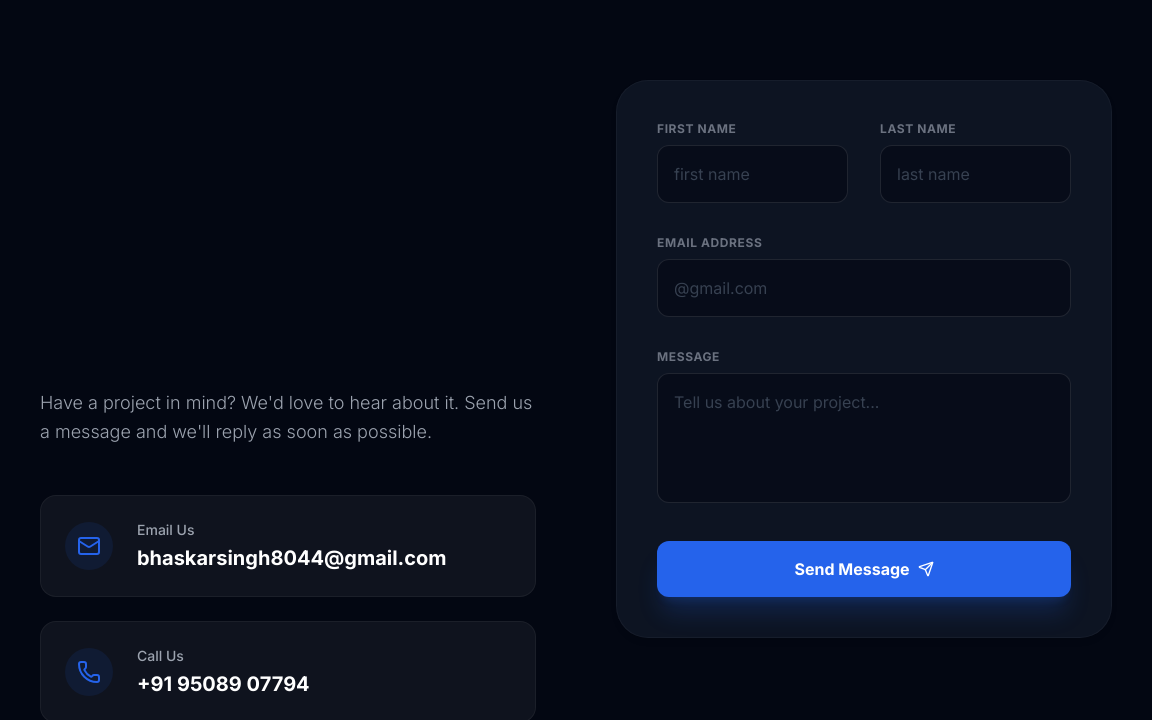
Contact Component › handles API error
Type "John" into the field with placeholder "first name" at point(752, 174), box [657,145,848,203]
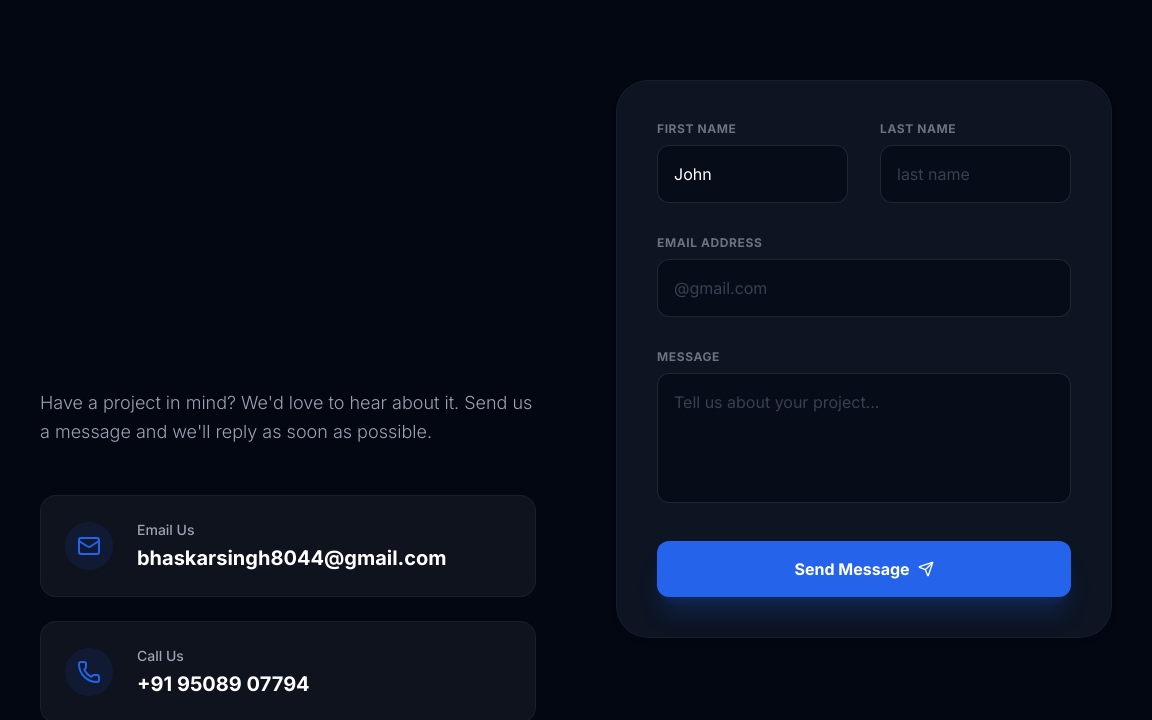
Type "john@example.com" into the field with placeholder "@gmail.com" at point(864, 288), box [657,259,1071,317]
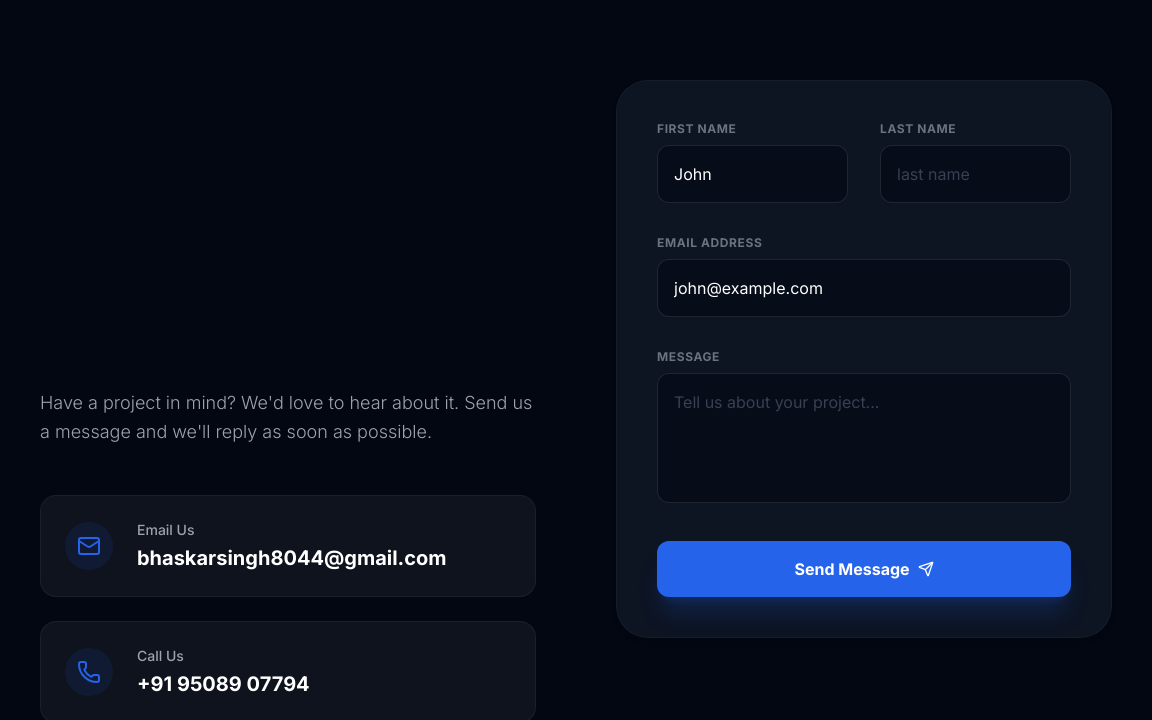
Type "Error test" into the text box with placeholder "Tell us about your project..." at point(864, 438), box [657,373,1071,503]
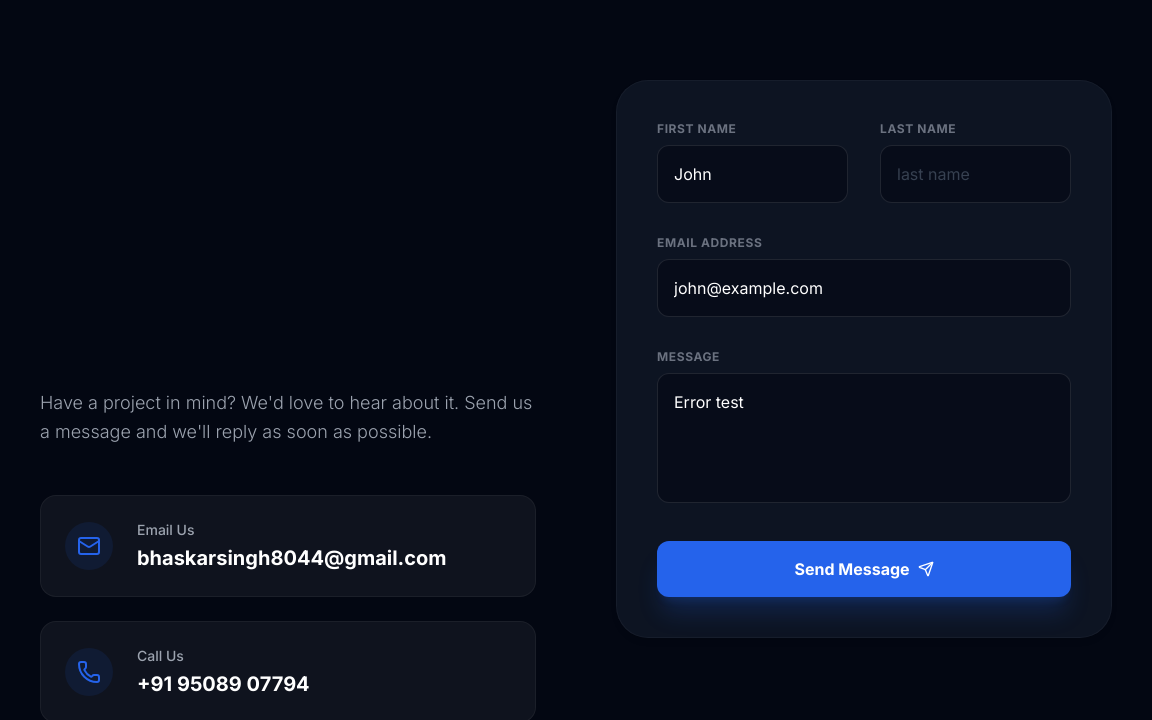
Click the button "Send Message" at point(864, 569), box [657,541,1071,597]
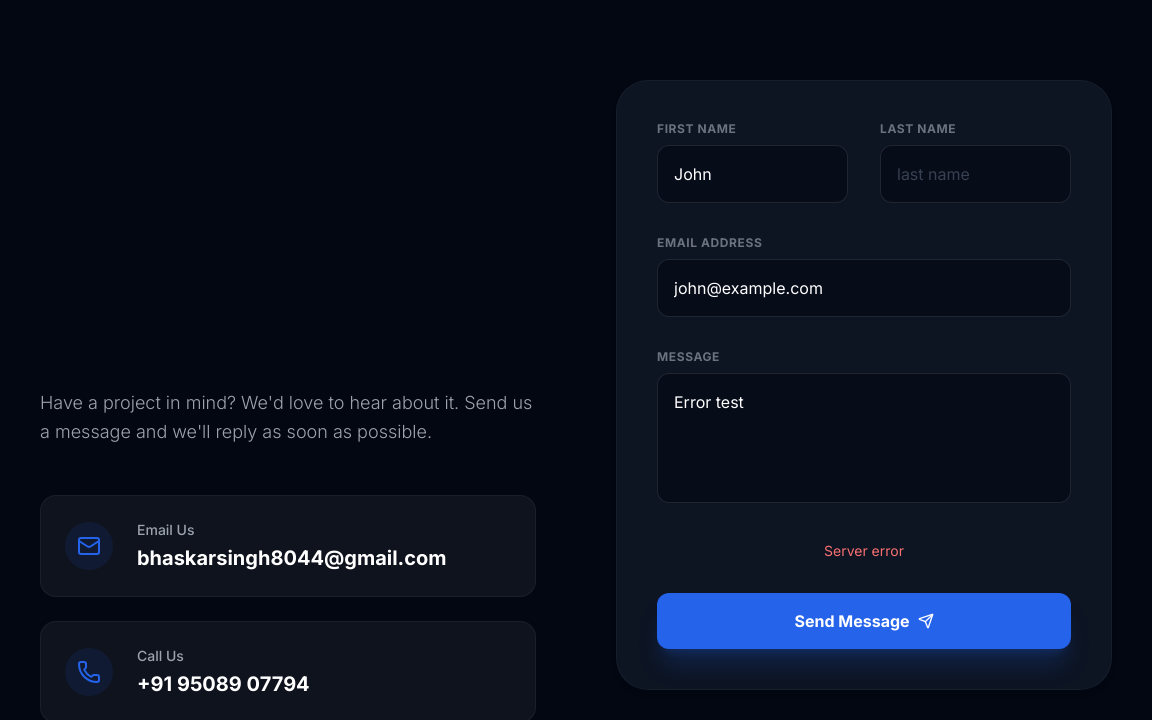
Check: the text "Server error" is shown, box [824,542,904,559]
